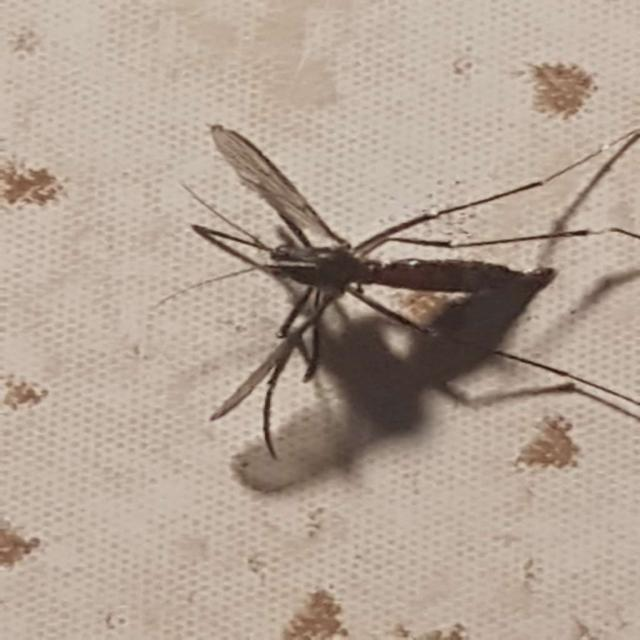albopictus: (158, 94, 620, 480)
